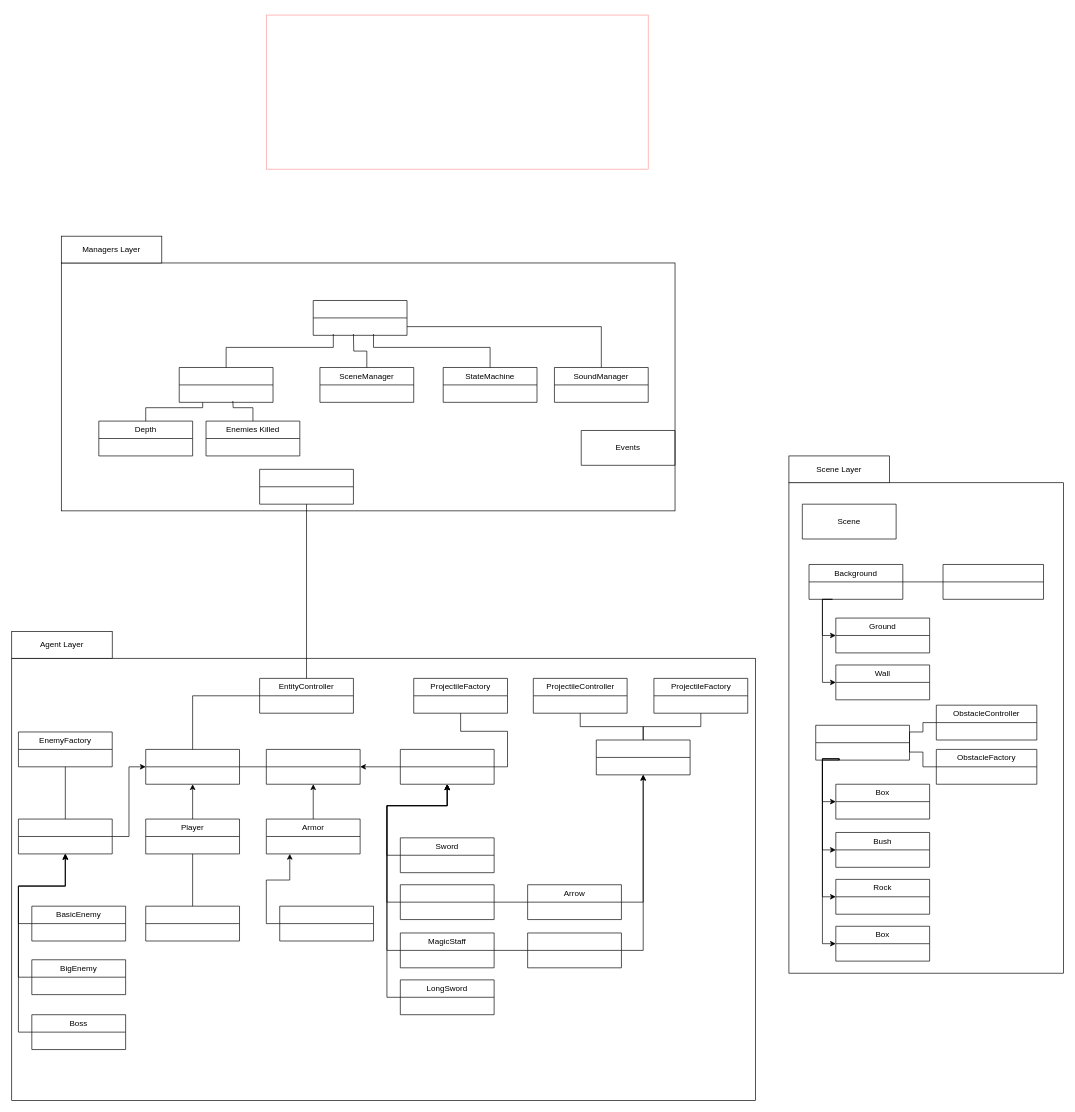
Image size: 1075x1112. Some labels were removed from this diagram. Here are the shapes that lost their labels. From the top down, the box of each, then its label:
(266, 14, 648, 169): Draft
(313, 300, 407, 335): GameManager
(179, 367, 273, 402): DataManager
(259, 469, 353, 504): AIAgent
(942, 564, 1044, 599): BackgroundController
(596, 739, 690, 775): Projectile
(815, 725, 910, 760): Obstacle
(145, 749, 240, 784): Entity
(266, 749, 360, 784): EquipableItem
(400, 749, 494, 784): Weapon
(18, 818, 112, 854): Enemies
(400, 884, 494, 920): Bow
(145, 906, 240, 941): PlayerController
(279, 906, 374, 941): Shield
(527, 932, 621, 968): MagicBall
